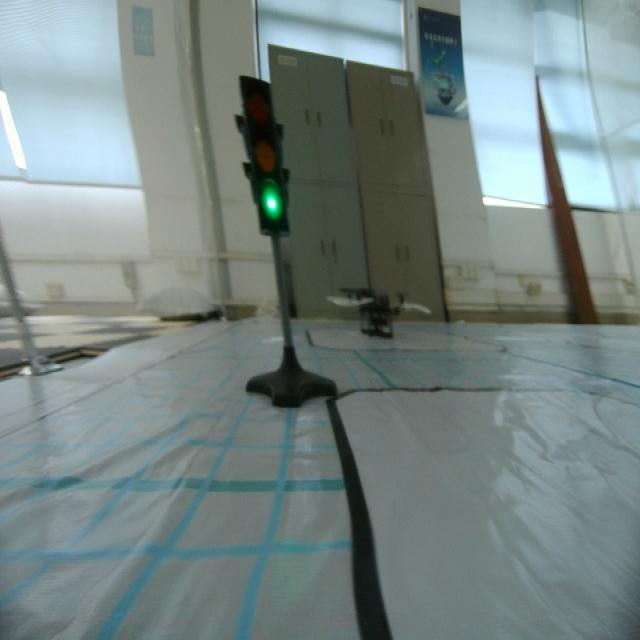green: (232, 70, 295, 236)
